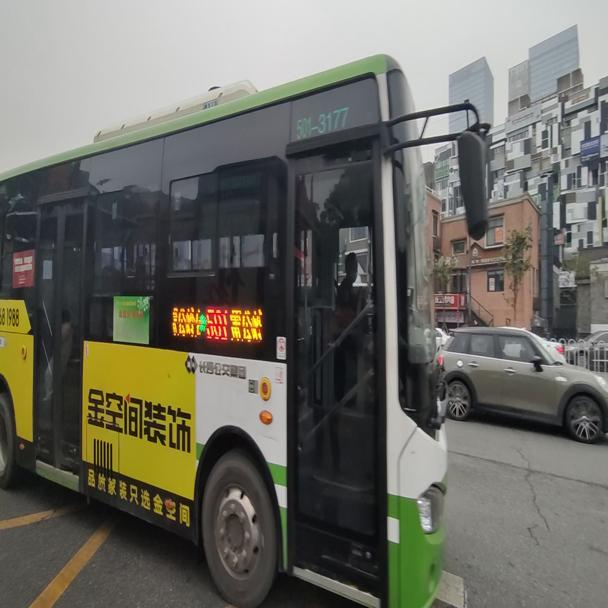bus: (1, 51, 488, 605)
screen: (205, 305, 227, 339)
